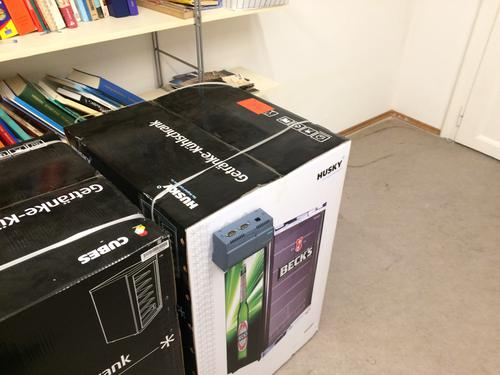iot2000: (210, 207, 275, 273)
